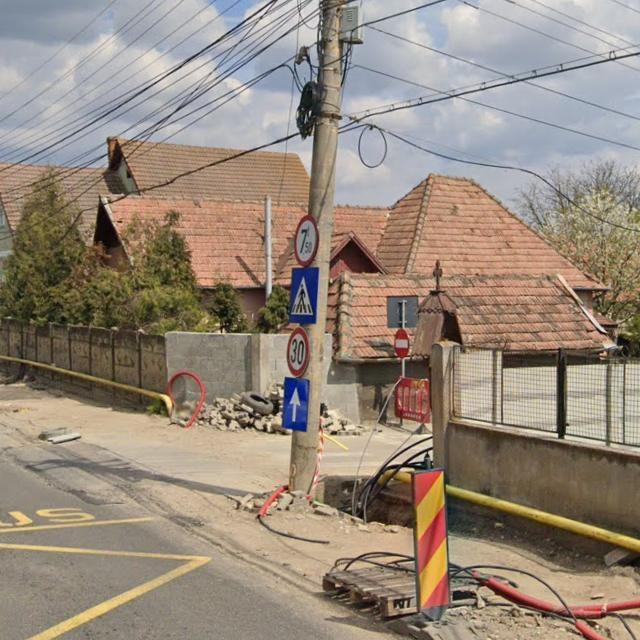forb_speed_over_30: (287, 326, 310, 378)
info_crosswalk: (288, 267, 320, 325)
